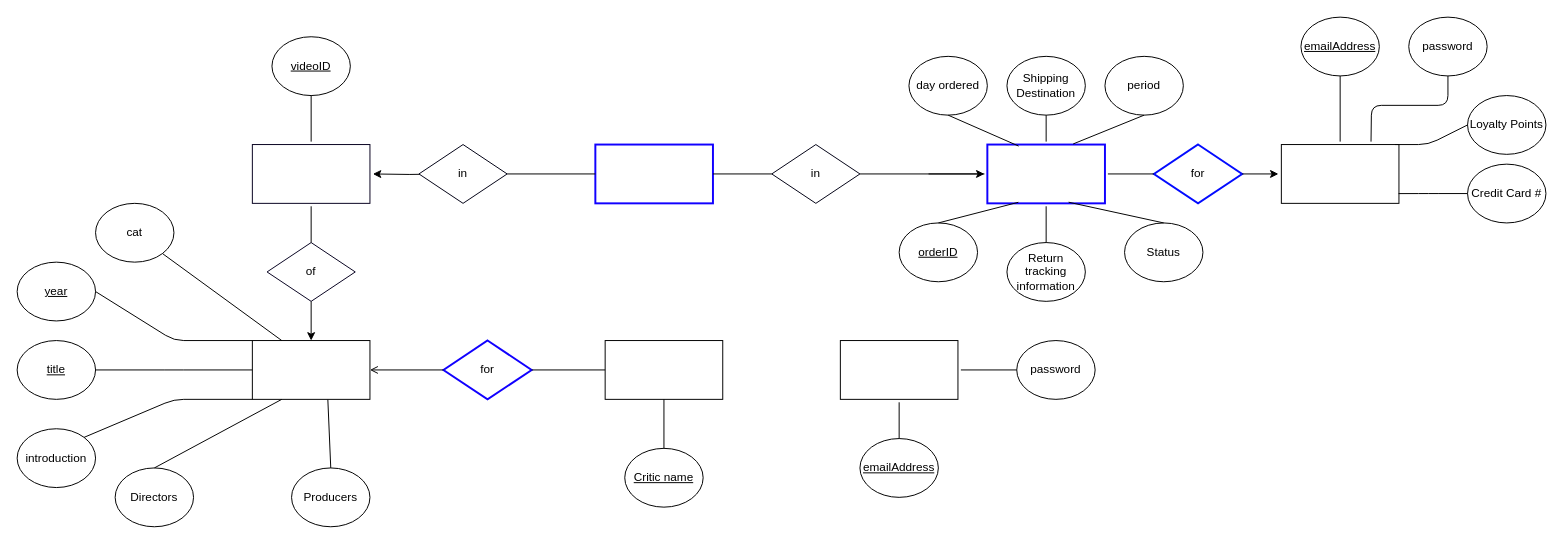
Some shapes in this 1563 by 544 pixel diagram are drawn without their labels. Here are the shapes that lost their labels. From the top down, the centre of each, then its label:
At (x=310, y=173): "Videotape".
At (x=653, y=173): "OrderItem".
At (x=1045, y=173): "Order".
At (x=1339, y=173): "Customer".
At (x=310, y=369): "Movie".
At (x=663, y=369): "Rating".
At (x=898, y=369): "Manager".
